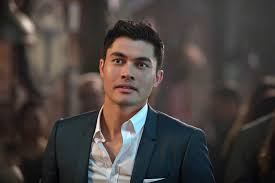asian_male: (90, 35, 165, 109)
